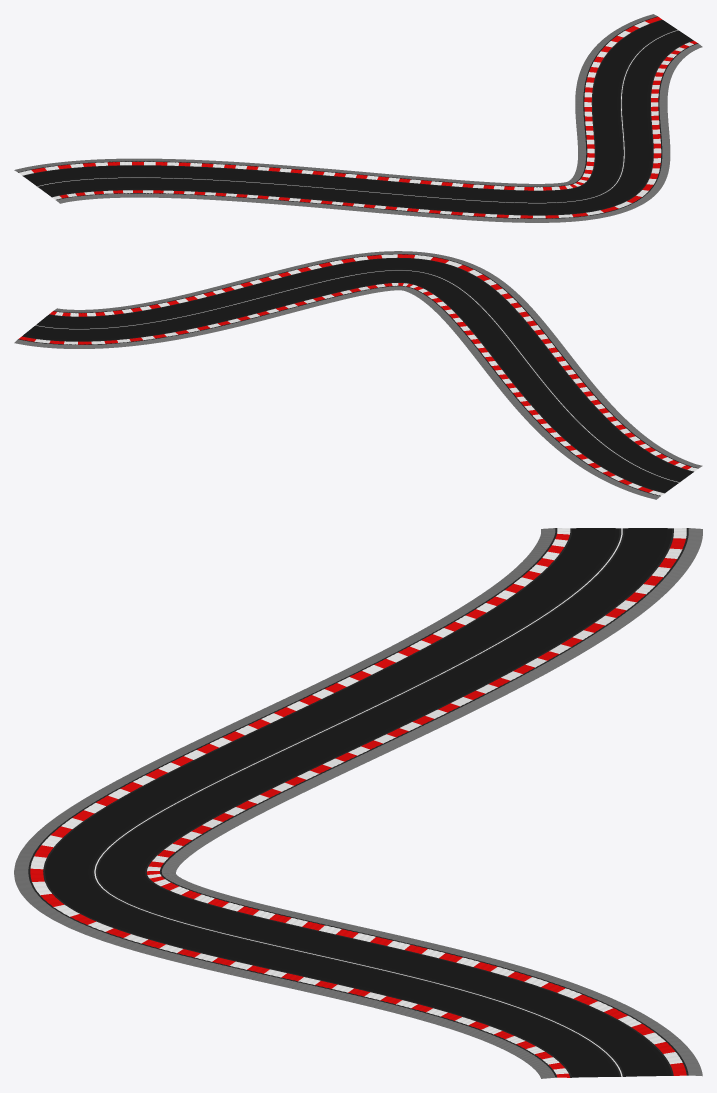
Rendered from S0.Group.202.export.A1M1H0cornR.glb.
3 views of the same model, one above another, from view 1: azimuth 30°, elevation 25°; view 2: azimuth 150°, elevation 25°; view 3: azimuth 270°, elevation 25° (orthographic). The views are drawn at different scales.
Visible parts, largest first — view 1: Grid; view 2: Grid; view 3: Grid.
Part boxes in pixels (box(x1,y1,x2,y2)): Grid: box(14, 14, 702, 222); Grid: box(14, 251, 702, 499); Grid: box(14, 528, 702, 1078).
Size of the model in its own units: 201 by 0.21 by 106.
